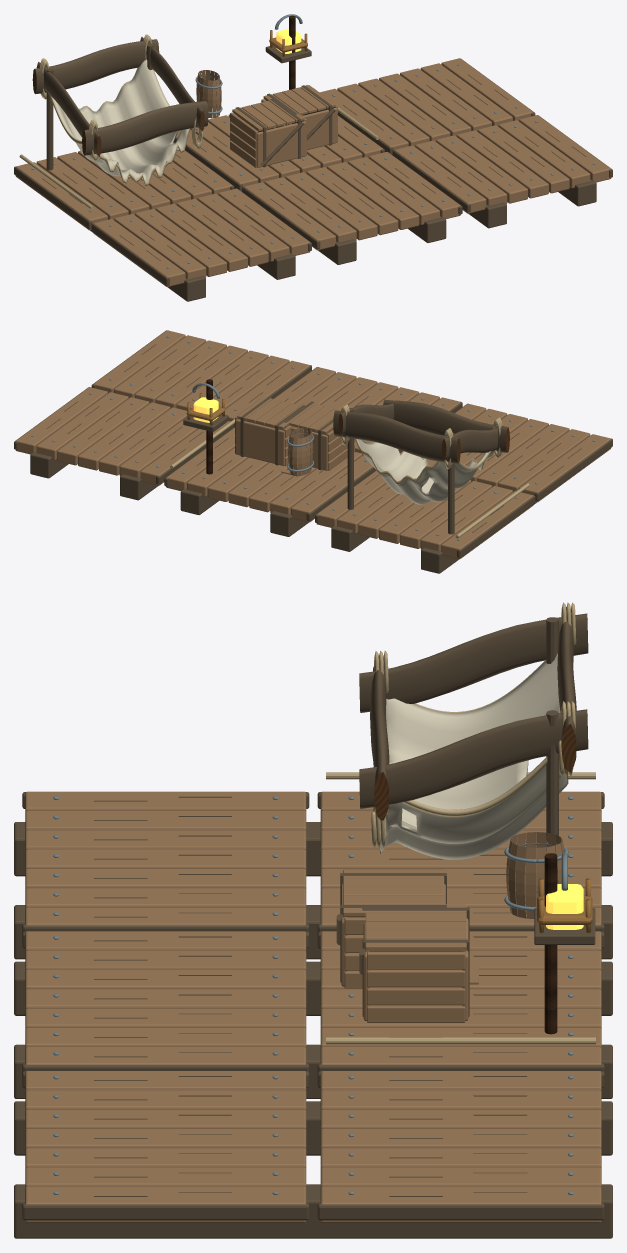
The model's file is raft_initial_v002.glb.
The picture shows the model from 3 angles, top to bottom: view 1: azimuth 30°, elevation 25°; view 2: azimuth 150°, elevation 25°; view 3: azimuth 270°, elevation 25°; orthographic projection. The views are drawn at different scales.
Visible parts, largest first — view 1: GEO-root-decor-2742.001, GEO-deck-intact-378.002, GEO-deck-intact-378.004, GEO-deck-intact-378.003, GEO-deck-intact-378.001, GEO-root-decor-736.001, GEO-root-decor-1428.001, GEO-root-decor-2208.001, GEO-deck-intact-972.002, GEO-deck-intact-972.003, GEO-deck-intact-972.004, GEO-root-decor-1440.001 (+3 smaller); view 2: GEO-root-decor-2742.001, GEO-deck-intact-378.001, GEO-deck-intact-378.004, GEO-root-decor-736.001, GEO-deck-intact-378.002, GEO-root-decor-2208.001, GEO-deck-intact-378.003, GEO-root-decor-1428.001, GEO-deck-intact-972.001, GEO-root-decor-1440.001, GEO-deck-intact-972.002, GEO-deck-intact-972.004 (+5 smaller); view 3: GEO-root-decor-2742.001, GEO-deck-intact-378.004, GEO-deck-intact-378.001, GEO-deck-intact-378.002, GEO-deck-intact-378.003, GEO-root-decor-736.001, GEO-root-decor-1428.001, GEO-deck-intact-972.001, GEO-deck-intact-972.004, GEO-root-decor-2208.001, GEO-deck-intact-972.002, GEO-root-decor-1440.001 (+6 smaller).
Boxes of the visible parts, <box> form: GEO-root-decor-2742.001: <box>16,70,382,230</box>; GEO-deck-intact-378.002: <box>93,188,310,286</box>; GEO-deck-intact-378.004: <box>394,115,611,213</box>; GEO-deck-intact-378.003: <box>244,152,460,250</box>; GEO-deck-intact-378.001: <box>320,58,533,149</box>; GEO-root-decor-736.001: <box>32,36,208,156</box>; GEO-root-decor-1428.001: <box>52,60,188,183</box>; GEO-root-decor-2208.001: <box>14,44,384,232</box>; GEO-deck-intact-972.002: <box>91,188,311,301</box>; GEO-deck-intact-972.003: <box>242,151,462,264</box>; GEO-deck-intact-972.004: <box>392,115,612,228</box>; GEO-root-decor-1440.001: <box>19,34,379,209</box>; GEO-root-decor-2742.001: <box>166,396,533,559</box>; GEO-deck-intact-378.001: <box>15,387,230,485</box>; GEO-deck-intact-378.004: <box>93,330,309,421</box>; GEO-root-decor-736.001: <box>333,399,509,463</box>; GEO-deck-intact-378.002: <box>400,403,610,502</box>; GEO-root-decor-2208.001: <box>164,397,535,573</box>; GEO-deck-intact-378.003: <box>274,367,460,455</box>; GEO-root-decor-1428.001: <box>357,439,493,504</box>; GEO-deck-intact-972.001: <box>14,387,234,500</box>; GEO-root-decor-1440.001: <box>170,404,529,538</box>; GEO-deck-intact-972.002: <box>400,403,612,504</box>; GEO-deck-intact-972.004: <box>91,331,311,426</box>; GEO-root-decor-2742.001: <box>320,791,601,1064</box>; GEO-deck-intact-378.004: <box>25,1071,306,1223</box>; GEO-deck-intact-378.001: <box>320,1071,601,1223</box>; GEO-deck-intact-378.002: <box>25,791,306,925</box>; GEO-deck-intact-378.003: <box>25,931,306,1064</box>; GEO-root-decor-736.001: <box>359,607,588,820</box>; GEO-root-decor-1428.001: <box>380,653,567,859</box>; GEO-deck-intact-972.001: <box>311,1071,612,1238</box>; GEO-deck-intact-972.004: <box>14,1071,315,1238</box>; GEO-root-decor-2208.001: <box>311,617,612,1098</box>; GEO-deck-intact-972.002: <box>14,792,315,959</box>; GEO-root-decor-1440.001: <box>326,602,595,1044</box>.
Bounding box in the file's own units: 6.98 × 2.03 × 4.26.
9 materials, 2 textured.
